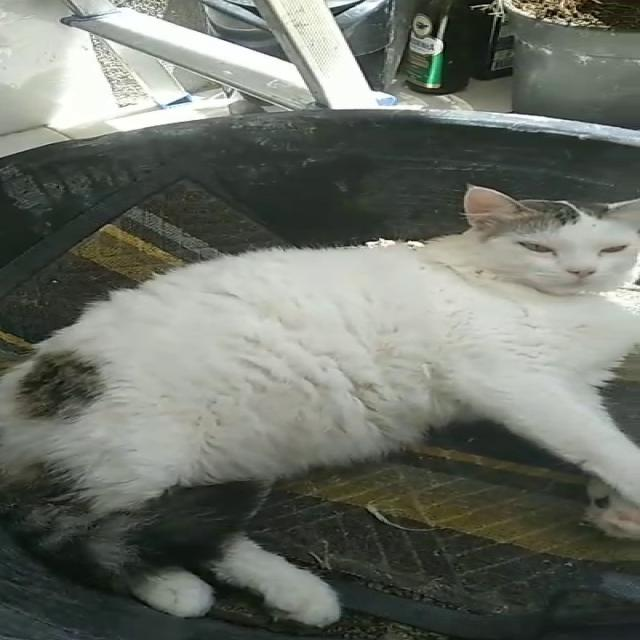Simba: (29, 174, 638, 613)
